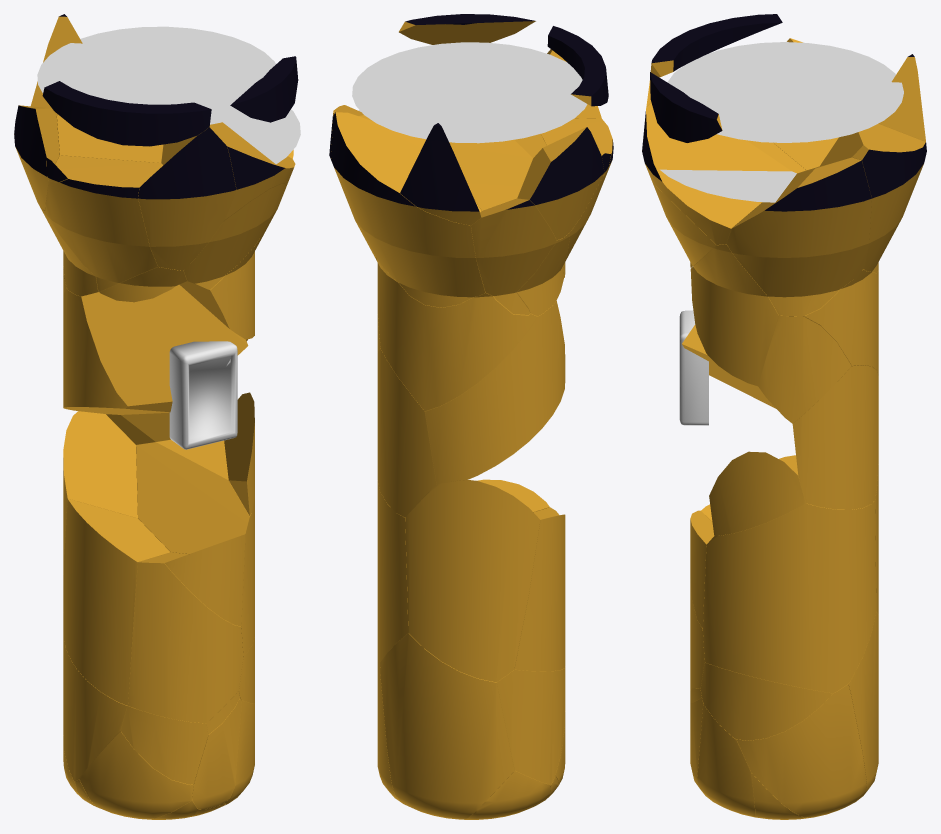
Rendered from BreakeFlashlight.fbx.
The picture shows the model from 3 angles, left to right: view 1: azimuth 30°, elevation 25°; view 2: azimuth 150°, elevation 25°; view 3: azimuth 270°, elevation 25°; orthographic projection. The views are drawn at different scales.
Parts seen in each view (by area): view 1: Cylinder_cell.038, Cylinder_cell.003, Cylinder_cell.025, Cylinder_cell.002, Cylinder_cell.040, Cylinder_cell.022, Cylinder_cell.007, Cylinder_cell.019, Cylinder_cell.009, Cylinder_cell.053, Cylinder_cell.049, Cylinder_cell.004 (+17 smaller); view 2: Cylinder_cell.009, Cylinder_cell.003, Cylinder_cell.048, Cylinder_cell.023, Cylinder_cell.038, Cylinder_cell.045, Cylinder_cell.011, Cylinder_cell.060, Cylinder_cell.051, Cylinder_cell.028, Cylinder_cell.002, Cylinder_cell.055 (+9 smaller); view 3: Cylinder_cell.040, Cylinder_cell.003, Cylinder_cell.034, Cylinder_cell.004, Cylinder_cell.027, Cylinder_cell.011, Cylinder_cell.067, Cylinder_cell.020, Cylinder_cell.023, Cylinder_cell.062, Cylinder_cell.050, Cylinder_cell.041 (+15 smaller).
Boxes of the visible parts, x1,y1,x2,y2 form: Cylinder_cell.038: (63,284,248,414); Cylinder_cell.003: (37,26,275,124); Cylinder_cell.025: (128,552,243,723); Cylinder_cell.002: (63,498,170,705); Cylinder_cell.040: (136,439,254,656); Cylinder_cell.022: (45,155,163,291); Cylinder_cell.007: (138,127,236,270); Cylinder_cell.019: (169,341,237,449); Cylinder_cell.009: (63,411,137,612); Cylinder_cell.053: (42,81,211,146); Cylinder_cell.049: (79,731,193,818); Cylinder_cell.004: (39,26,274,124); Cylinder_cell.009: (405,480,540,682); Cylinder_cell.003: (352,42,587,143); Cylinder_cell.048: (380,633,514,819); Cylinder_cell.023: (331,112,485,307); Cylinder_cell.038: (425,301,565,484); Cylinder_cell.045: (376,258,537,411); Cylinder_cell.011: (377,349,436,517); Cylinder_cell.060: (449,134,569,316); Cylinder_cell.051: (471,198,556,314); Cylinder_cell.028: (497,667,565,784); Cylinder_cell.002: (514,514,565,671); Cylinder_cell.055: (517,127,604,239); Cylinder_cell.040: (703,500,876,693); Cylinder_cell.003: (667,42,903,142); Cylinder_cell.034: (726,157,871,316); Cylinder_cell.004: (670,42,903,142); Cylinder_cell.027: (736,684,866,817); Cylinder_cell.011: (792,365,878,509); Cylinder_cell.067: (642,103,806,244); Cylinder_cell.020: (690,244,778,386); Cylinder_cell.023: (820,123,926,273); Cylinder_cell.062: (758,316,851,423); Cylinder_cell.050: (700,662,832,740); Cylinder_cell.041: (709,451,805,535).
Bounding box in the file's own units: 303 × 843 × 303.
